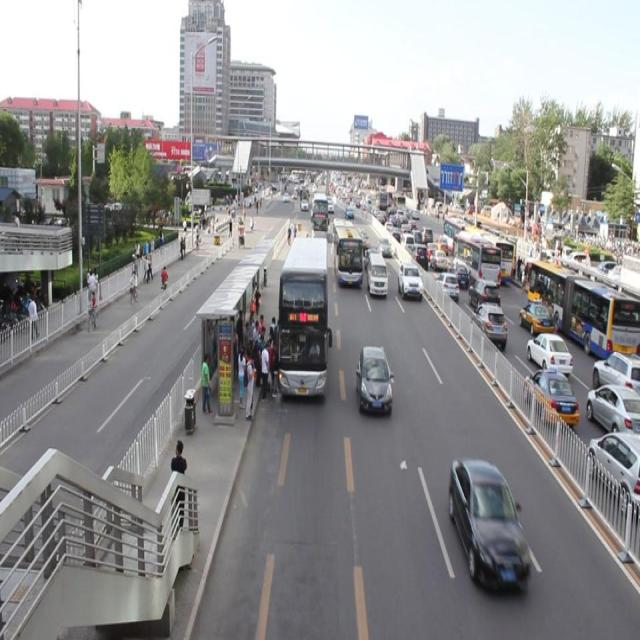car: (448, 456, 529, 594), (355, 344, 390, 415), (398, 262, 422, 297), (374, 237, 390, 256), (364, 248, 377, 270), (356, 227, 368, 249), (325, 198, 334, 214), (345, 205, 353, 218), (300, 200, 308, 208)
truck: (367, 254, 387, 297)
van: (280, 236, 326, 399), (333, 217, 362, 284), (311, 192, 329, 230)
